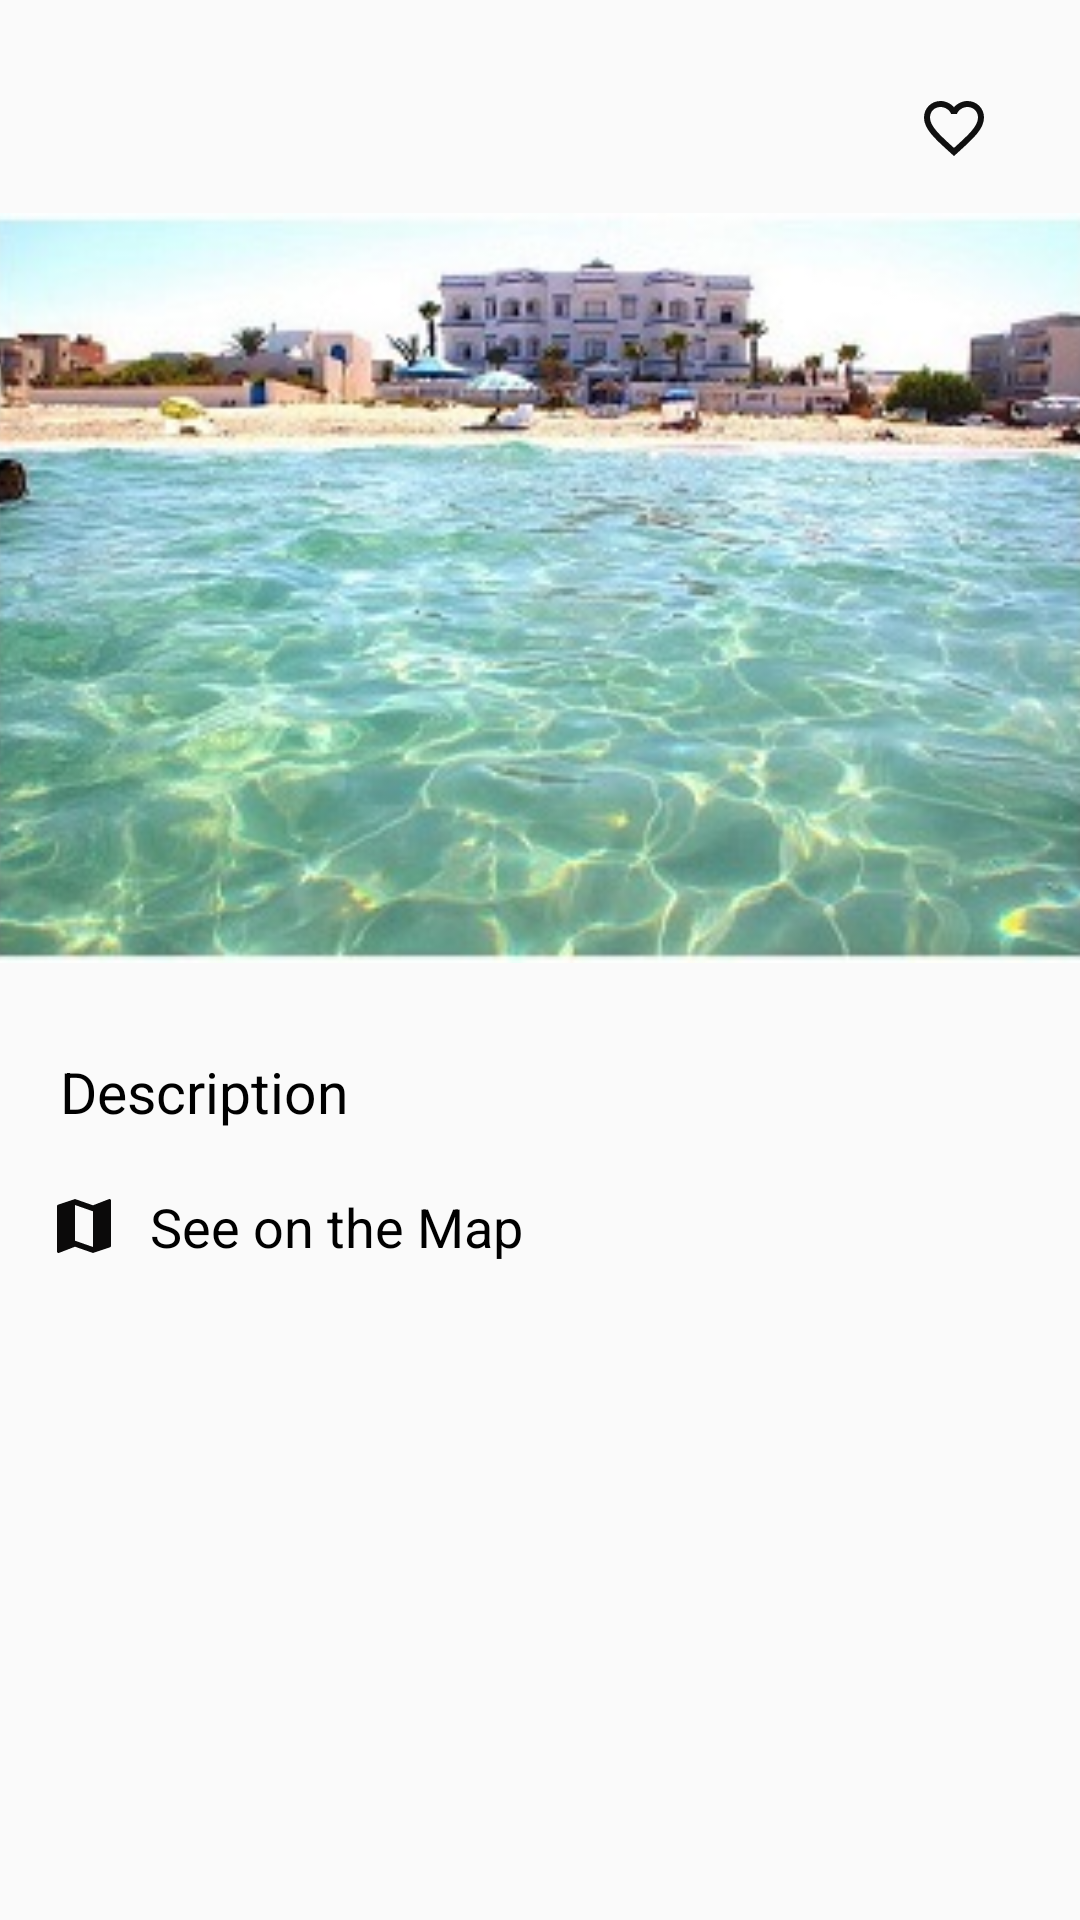

Named icons in this screenshot (1080*1920) and their centers, [x,y]:
wishlist item: [954,128]
